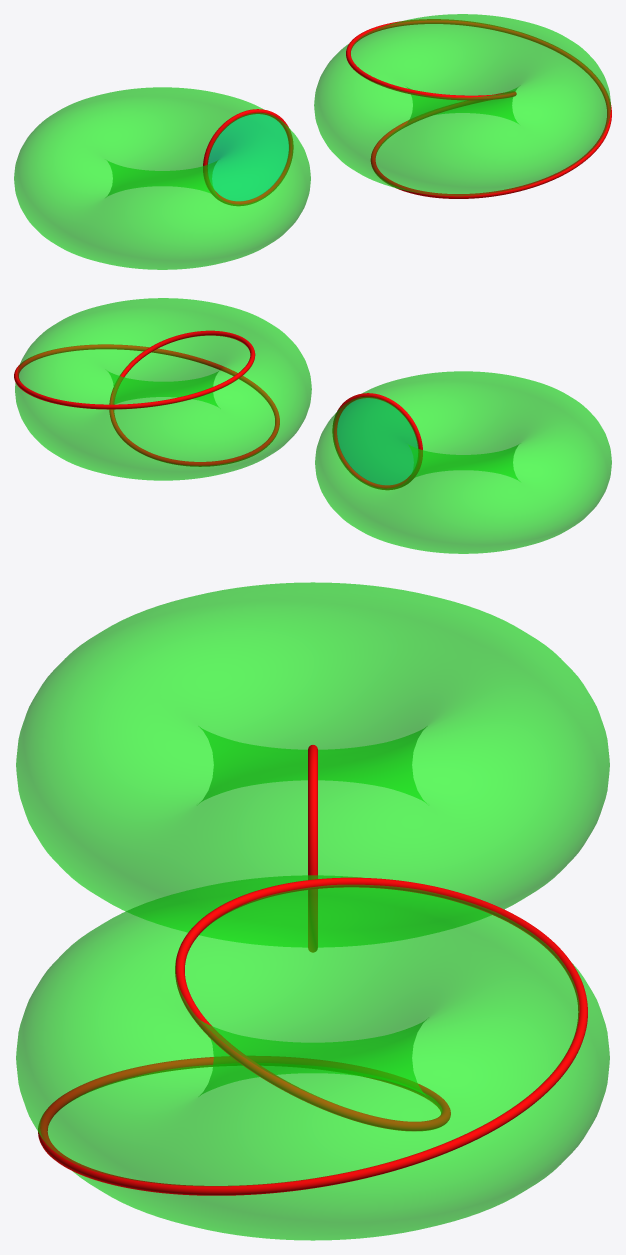
3 views of the same model, one above another, from view 1: azimuth 30°, elevation 25°; view 2: azimuth 150°, elevation 25°; view 3: azimuth 270°, elevation 25° (orthographic). The views are drawn at different scales.
Visible parts, largest first — view 1: T1, Reference Torus, meridional disk, TorusKnot_2_1, meridional_arc; view 2: T1, Reference Torus, meridional disk, TorusKnot_2_1, meridional_arc; view 3: T1, Reference Torus, TorusKnot_2_1, meridional_arc.
Part boxes in pixels (box(x1,y1,x2,y2)): T1: box(14, 87, 310, 269); Reference Torus: box(314, 14, 610, 195); meridional disk: box(208, 114, 288, 200); TorusKnot_2_1: box(346, 19, 611, 198); meridional_arc: box(203, 109, 293, 205); T1: box(315, 371, 611, 553); Reference Torus: box(15, 298, 311, 480); meridional disk: box(337, 398, 417, 484); TorusKnot_2_1: box(14, 330, 279, 466); meridional_arc: box(332, 393, 422, 489); T1: box(16, 582, 609, 947); Reference Torus: box(16, 875, 609, 1240); TorusKnot_2_1: box(38, 877, 587, 1195); meridional_arc: box(308, 745, 317, 952).
Bounding box in the file's own units: 6.52 × 1.05 × 3.
